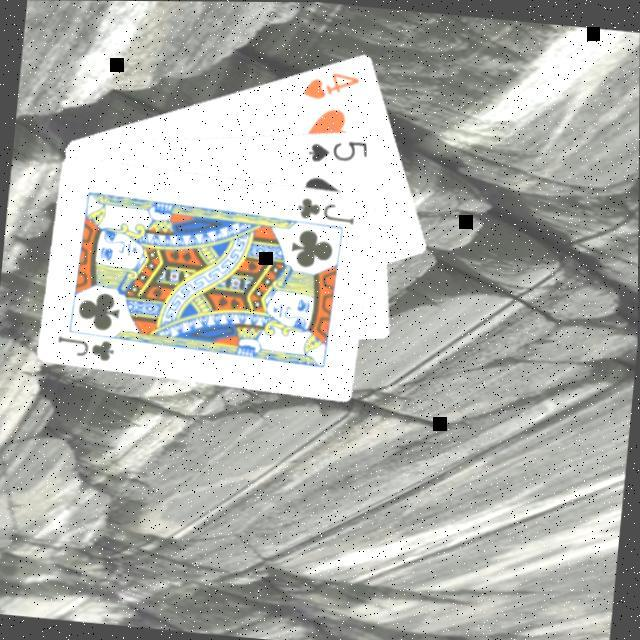4H: (300, 63, 365, 104)
5S: (307, 130, 374, 166)
JC: (296, 190, 362, 225), (56, 329, 121, 362)
